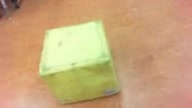cube: (38, 19, 121, 104)
